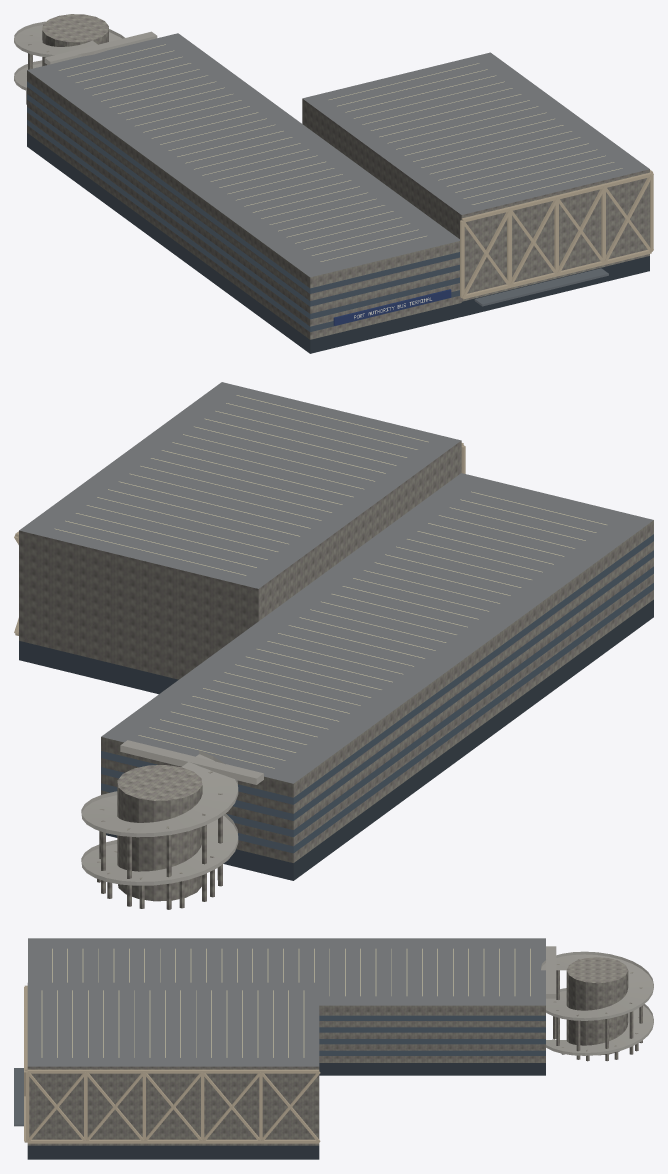
Rendered from port_authority_bus_terminal.glb.
3 renders of one model, top to bottom at view 1: azimuth 30°, elevation 25°; view 2: azimuth 150°, elevation 25°; view 3: azimuth 270°, elevation 25°, orthographic. The views are drawn at different scales.
Visible parts, largest first — view 1: port_authority_bus_terminal; view 2: port_authority_bus_terminal; view 3: port_authority_bus_terminal.
Boxes of the visible parts, x1=… form: port_authority_bus_terminal: x1=14, y1=14, x2=653, y2=353; port_authority_bus_terminal: x1=14, y1=382, x2=653, y2=909; port_authority_bus_terminal: x1=14, y1=938, x2=653, y2=1159.
Size of the model in its own units: 141 by 40.03 by 249.
2 materials, 2 textured.
